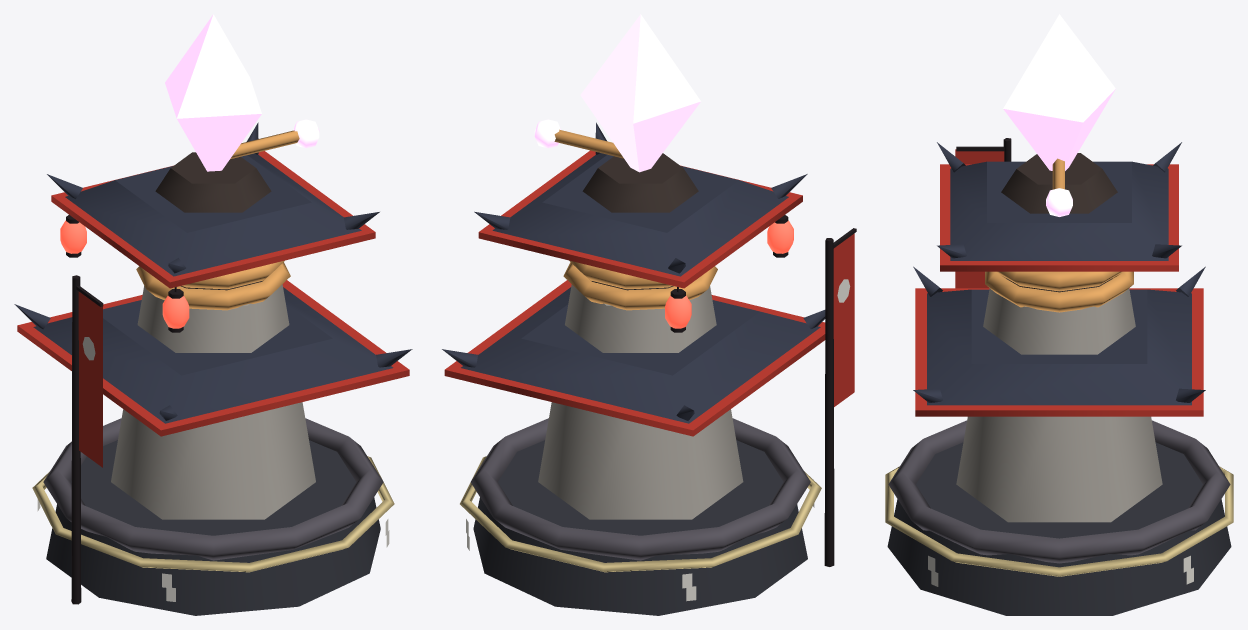
Rendered from tower_chain_overload.glb.
The picture shows the model from 3 angles, left to right: view 1: azimuth 30°, elevation 25°; view 2: azimuth 150°, elevation 25°; view 3: azimuth 270°, elevation 25°; orthographic projection.
Visible parts, largest first — view 1: shaft, base, deco_eave_1_roof, deco_eave_0_roof, base_rim, crystal_core, deco_eave_1_rim, deco_eave_0_rim, cap, deco_shimenawa_rope, deco_nobori_cloth, deco_nobori_pole (+8 smaller); view 2: shaft, base, deco_eave_1_roof, deco_eave_0_roof, base_rim, crystal_core, deco_eave_1_rim, deco_eave_0_rim, cap, deco_shimenawa_rope, deco_nobori_cloth, deco_nobori_pole (+8 smaller); view 3: shaft, base, deco_eave_1_roof, deco_eave_0_roof, base_rim, crystal_core, deco_eave_1_rim, deco_eave_0_rim, deco_shimenawa_rope, cap, coil_0, coil_1 (+4 smaller).
Boxes of the visible parts, <box> form: shaft: <box>111,284,315,519</box>; base: <box>46,440,380,615</box>; deco_eave_1_roof: <box>33,287,393,423</box>; deco_eave_0_roof: <box>65,153,361,276</box>; base_rim: <box>43,418,383,560</box>; crystal_core: <box>165,14,261,171</box>; deco_eave_1_rim: <box>17,280,409,436</box>; deco_eave_0_rim: <box>51,151,375,288</box>; cap: <box>155,152,271,212</box>; deco_shimenawa_rope: <box>32,456,394,572</box>; deco_nobori_cloth: <box>78,291,102,467</box>; deco_nobori_pole: <box>71,275,81,604</box>; shaft: <box>538,284,743,519</box>; base: <box>473,440,807,615</box>; deco_eave_1_roof: <box>461,287,820,423</box>; deco_eave_0_roof: <box>492,153,788,276</box>; base_rim: <box>470,418,810,560</box>; crystal_core: <box>580,14,700,172</box>; deco_eave_1_rim: <box>444,280,825,436</box>; deco_eave_0_rim: <box>478,150,802,288</box>; cap: <box>582,153,698,212</box>; deco_shimenawa_rope: <box>460,456,821,572</box>; deco_nobori_cloth: <box>833,233,854,406</box>; deco_nobori_pole: <box>824,238,834,566</box>; shaft: <box>956,288,1162,522</box>; base: <box>887,442,1231,615</box>; deco_eave_1_roof: <box>927,289,1191,405</box>; deco_eave_0_roof: <box>950,161,1168,260</box>; base_rim: <box>888,420,1230,563</box>; crystal_core: <box>1003,14,1115,170</box>; deco_eave_1_rim: <box>915,288,1203,416</box>; deco_eave_0_rim: <box>940,164,1178,271</box>; deco_shimenawa_rope: <box>885,466,1233,576</box>; cap: <box>1001,153,1117,213</box>; coil_0: <box>985,271,1133,312</box>; coil_1: <box>996,271,1122,291</box>.
Size of the model in its own units: 0.4387 by 0.6838 by 0.4052.
